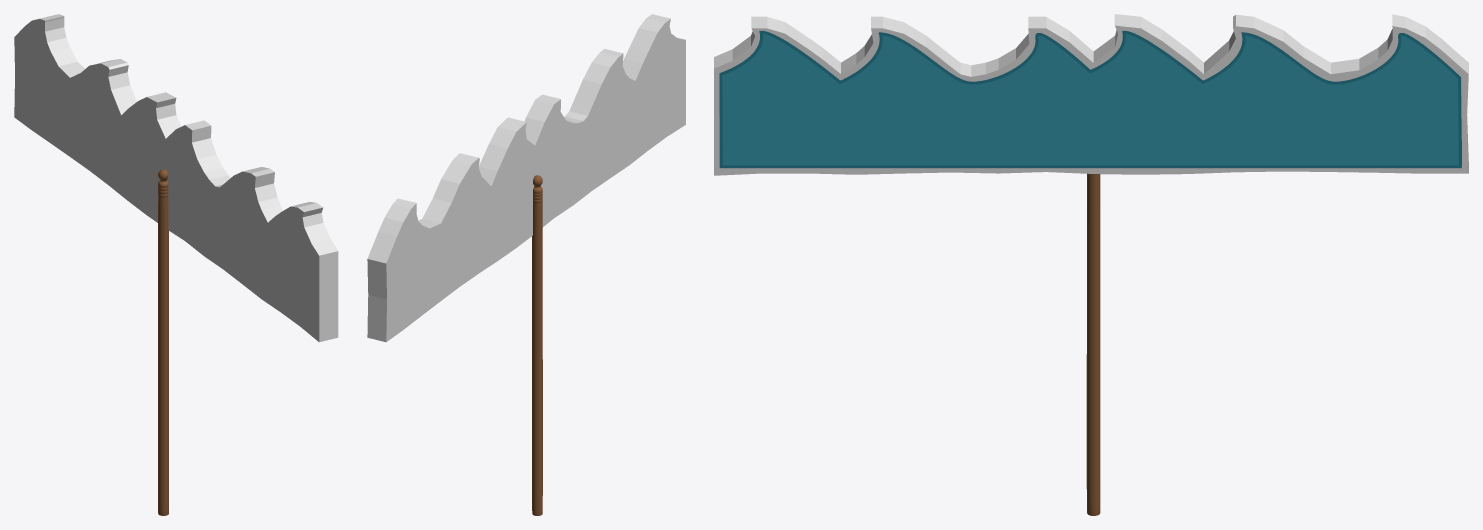
Rendered from Ola3_scn4.fbx.
The picture shows the model from 3 angles, left to right: view 1: azimuth 30°, elevation 25°; view 2: azimuth 150°, elevation 25°; view 3: azimuth 270°, elevation 25°; orthographic projection. The views are drawn at different scales.
Visible parts, largest first — view 1: pCube8; view 2: pCube8; view 3: pCube8.
Boxes of the visible parts, bbox=[...] form: pCube8: bbox=[14, 14, 338, 515]; pCube8: bbox=[367, 14, 685, 515]; pCube8: bbox=[714, 14, 1468, 515].
Size of the model in its own units: 0.8666 by 12.6 by 17.21.
